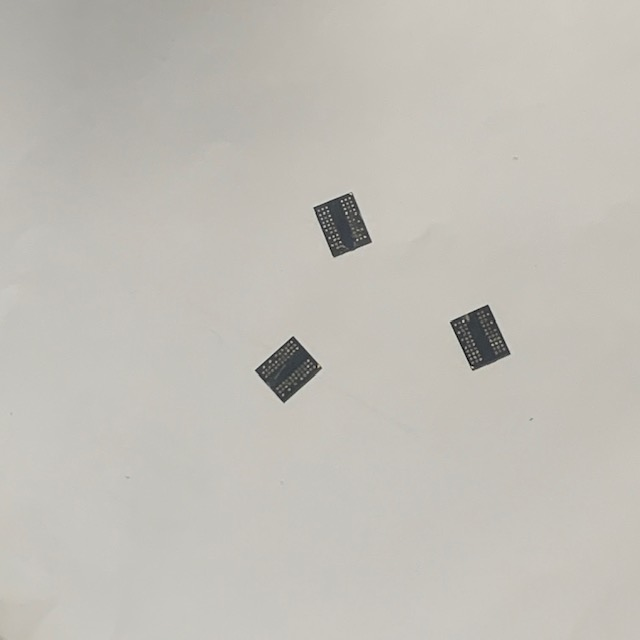IC: (252, 332, 326, 406), (446, 300, 515, 375), (310, 189, 377, 260)
